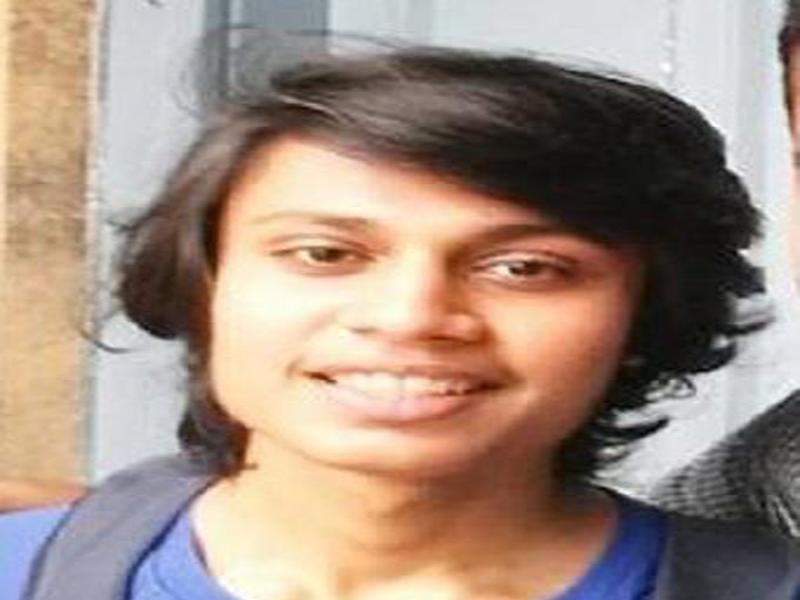without_mask: (210, 167, 623, 484)
